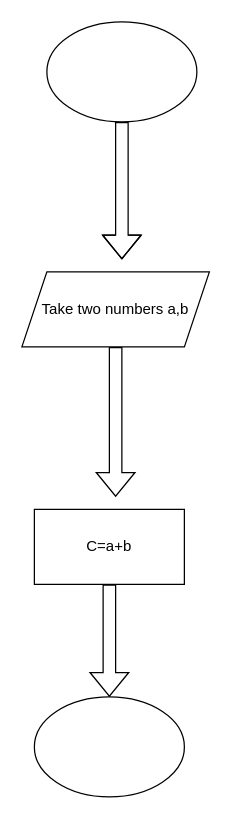
This 231x819 diagram has some shape labels left out. Here are the shapes that lost their labels. From the top down, the centre of each, then its label:
At point 121,71: "Start".
At point 108,746: "end".
